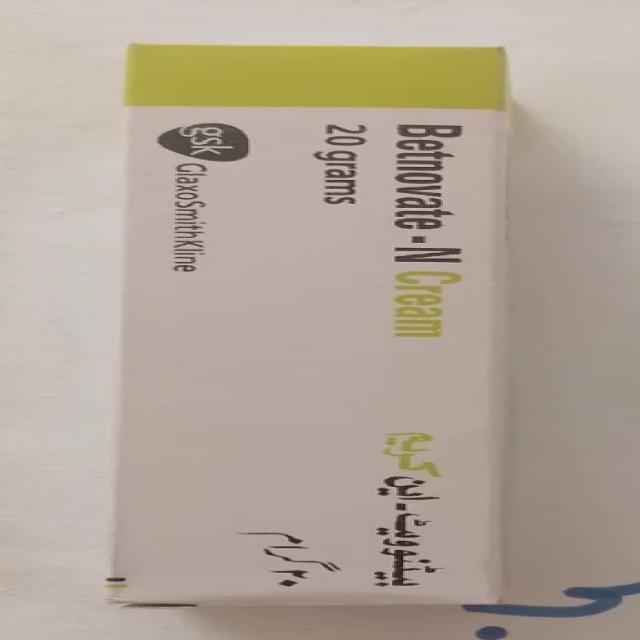drug-name: (368, 120, 482, 268)
